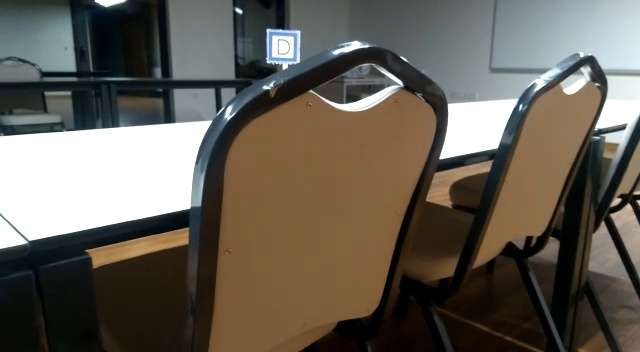durak: (265, 27, 301, 65)
